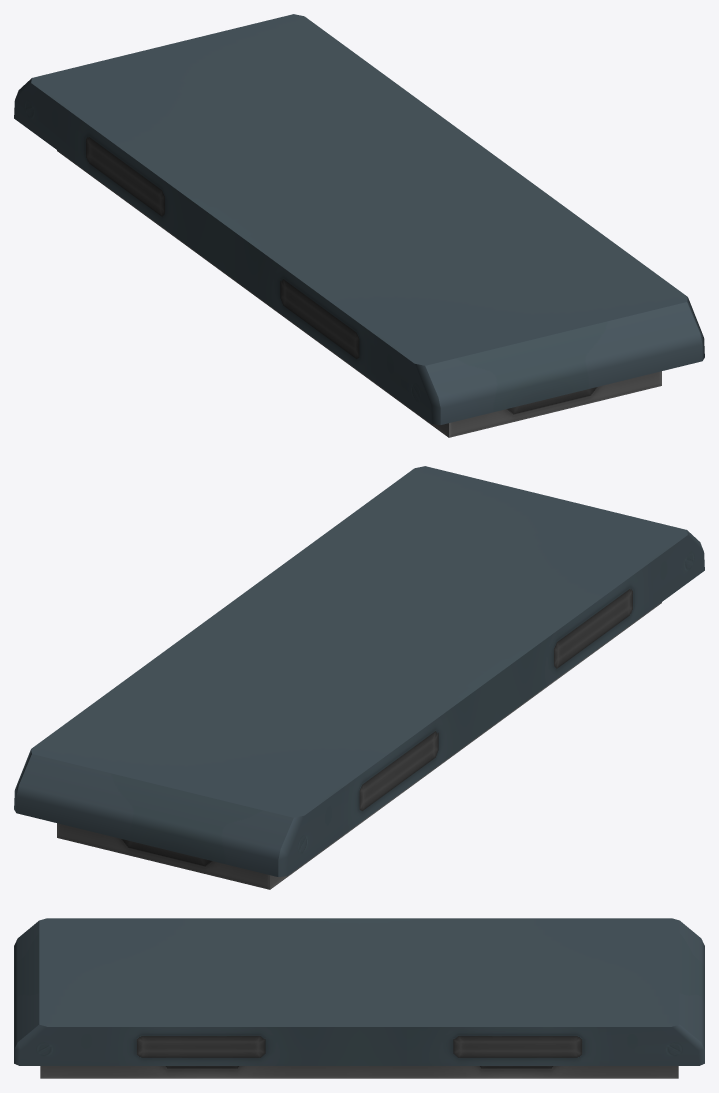
The model's file is env_building_fluorescentlamp.fbx.
The picture shows the model from 3 angles, top to bottom: view 1: azimuth 30°, elevation 25°; view 2: azimuth 150°, elevation 25°; view 3: azimuth 270°, elevation 25°; orthographic projection. The views are drawn at different scales.
Parts seen in each view (by area): view 1: env_warehouse_fluorescentlamp_lod0; view 2: env_warehouse_fluorescentlamp_lod0; view 3: env_warehouse_fluorescentlamp_lod0.
Boxes of the visible parts, x1=… form: env_warehouse_fluorescentlamp_lod0: x1=14, y1=14, x2=704, y2=437; env_warehouse_fluorescentlamp_lod0: x1=14, y1=466, x2=704, y2=889; env_warehouse_fluorescentlamp_lod0: x1=14, y1=918, x2=704, y2=1078.
Size of the model in its own units: 8.93 by 2.63 by 24.
Materials: 1 (1 with a texture image).
